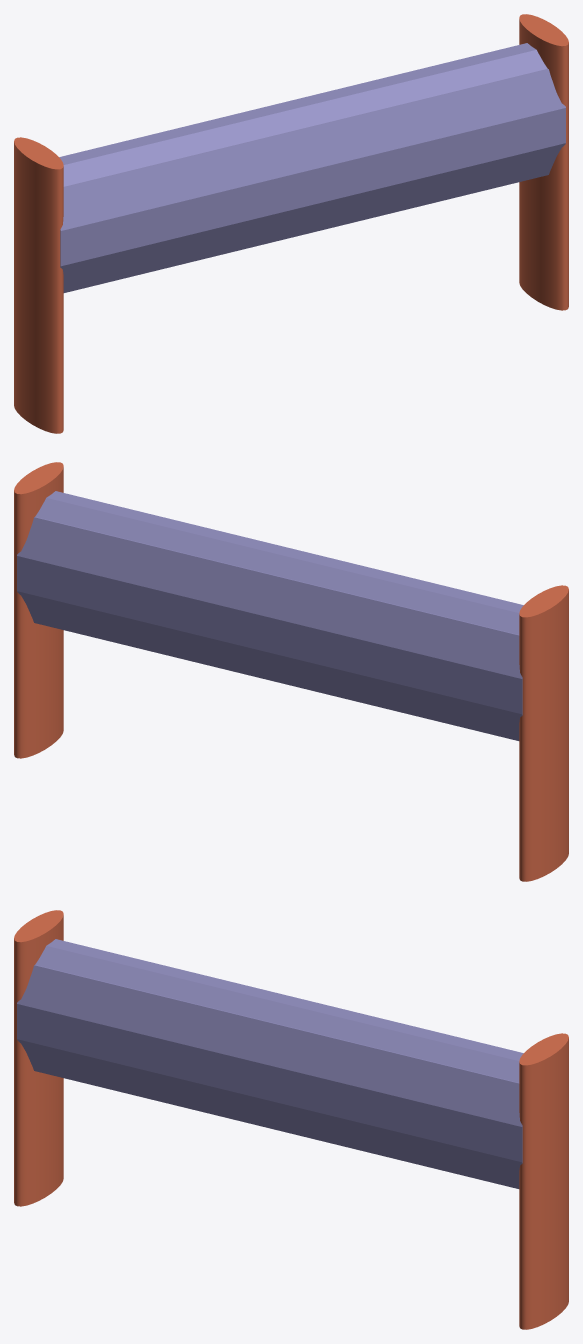
The model's file is MetalFence.glb.
The picture shows the model from 3 angles, top to bottom: view 1: azimuth 30°, elevation 25°; view 2: azimuth 150°, elevation 25°; view 3: azimuth 330°, elevation 25°; orthographic projection.
Visible parts, largest first — view 1: hut_hexagon (×4), mast_middle (×2); view 2: hut_hexagon (×4), mast_middle (×2); view 3: hut_hexagon (×4), mast_middle (×2).
Part boxes in pixels (x1=…): hut_hexagon (×4): x1=59, y1=43, x2=565, y2=292; mast_middle (×2): x1=14, y1=14, x2=568, y2=433; hut_hexagon (×4): x1=17, y1=491, x2=523, y2=740; mast_middle (×2): x1=14, y1=462, x2=568, y2=881; hut_hexagon (×4): x1=17, y1=939, x2=523, y2=1188; mast_middle (×2): x1=14, y1=910, x2=568, y2=1329.
Bounding box in the file's own units: 2.1 × 1 × 0.3.
